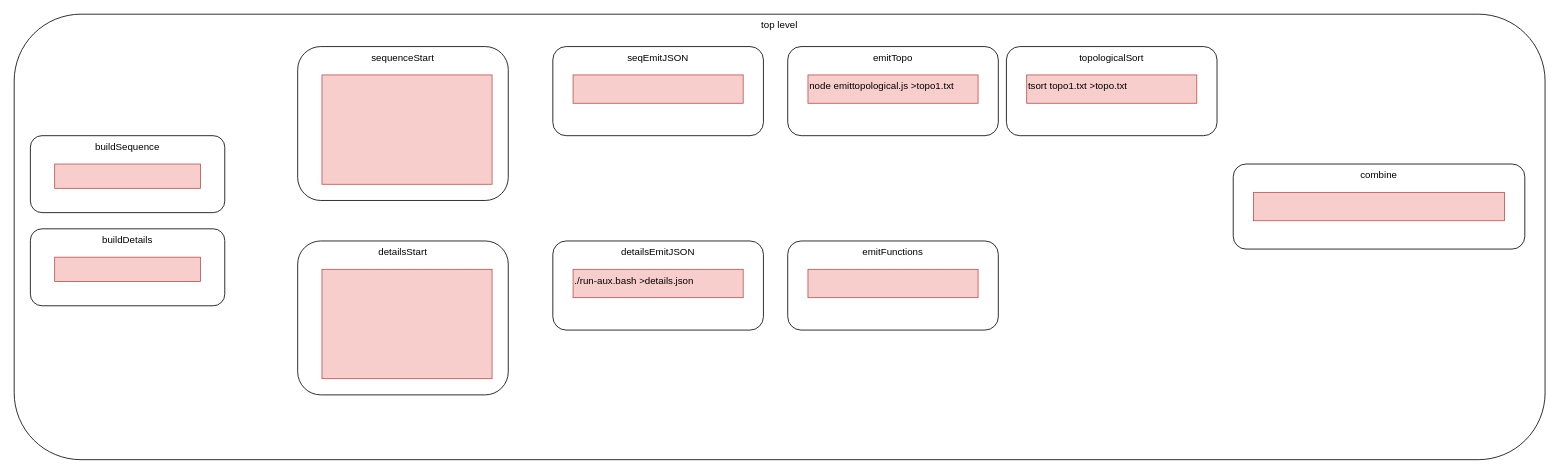
This 1559x474 diagram has some shape labels left out. Each missing label, with the centre of its shape:
./seq-run-aux.bash >sequence.json: pixel 657 88
cat header.txt functions.txt topo.txt trailer.txt >rfinal.bash: pixel 1379 206
echo *** detailsStart *** ./detStart cat details.pl temp.pl | sort >fb.pl: pixel 406 324
echo AAA sequenceStart AAA ./seqStart cat sequence.pl temp.pl | sort >fb.pl: pixel 406 129
node details.js >details.pl: pixel 127 268
node emitfunctions.js >topo1.txt: pixel 892 283
node sequence.js >sequence.pl: pixel 127 175
